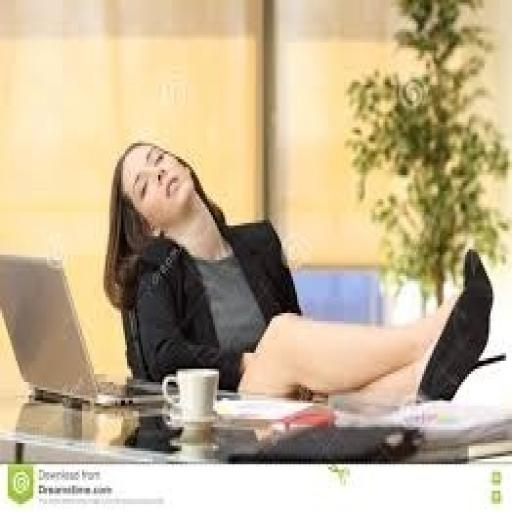sleeping: (102, 138, 504, 411)
